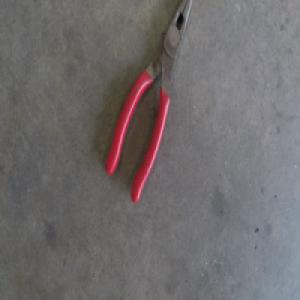Pliers: (103, 0, 190, 203)
